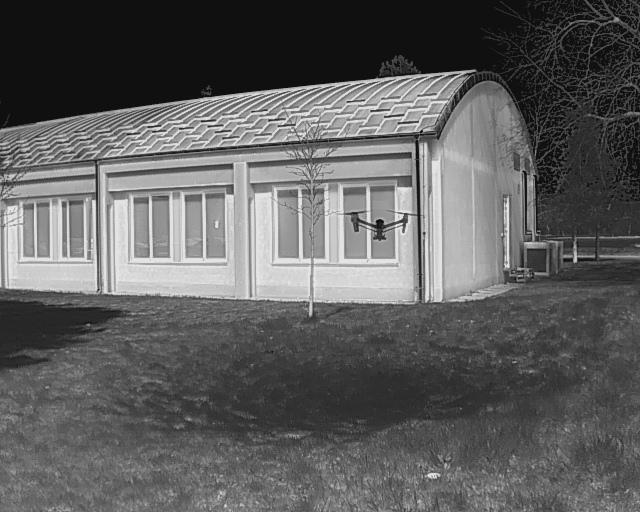drone: (336, 205, 429, 242)
